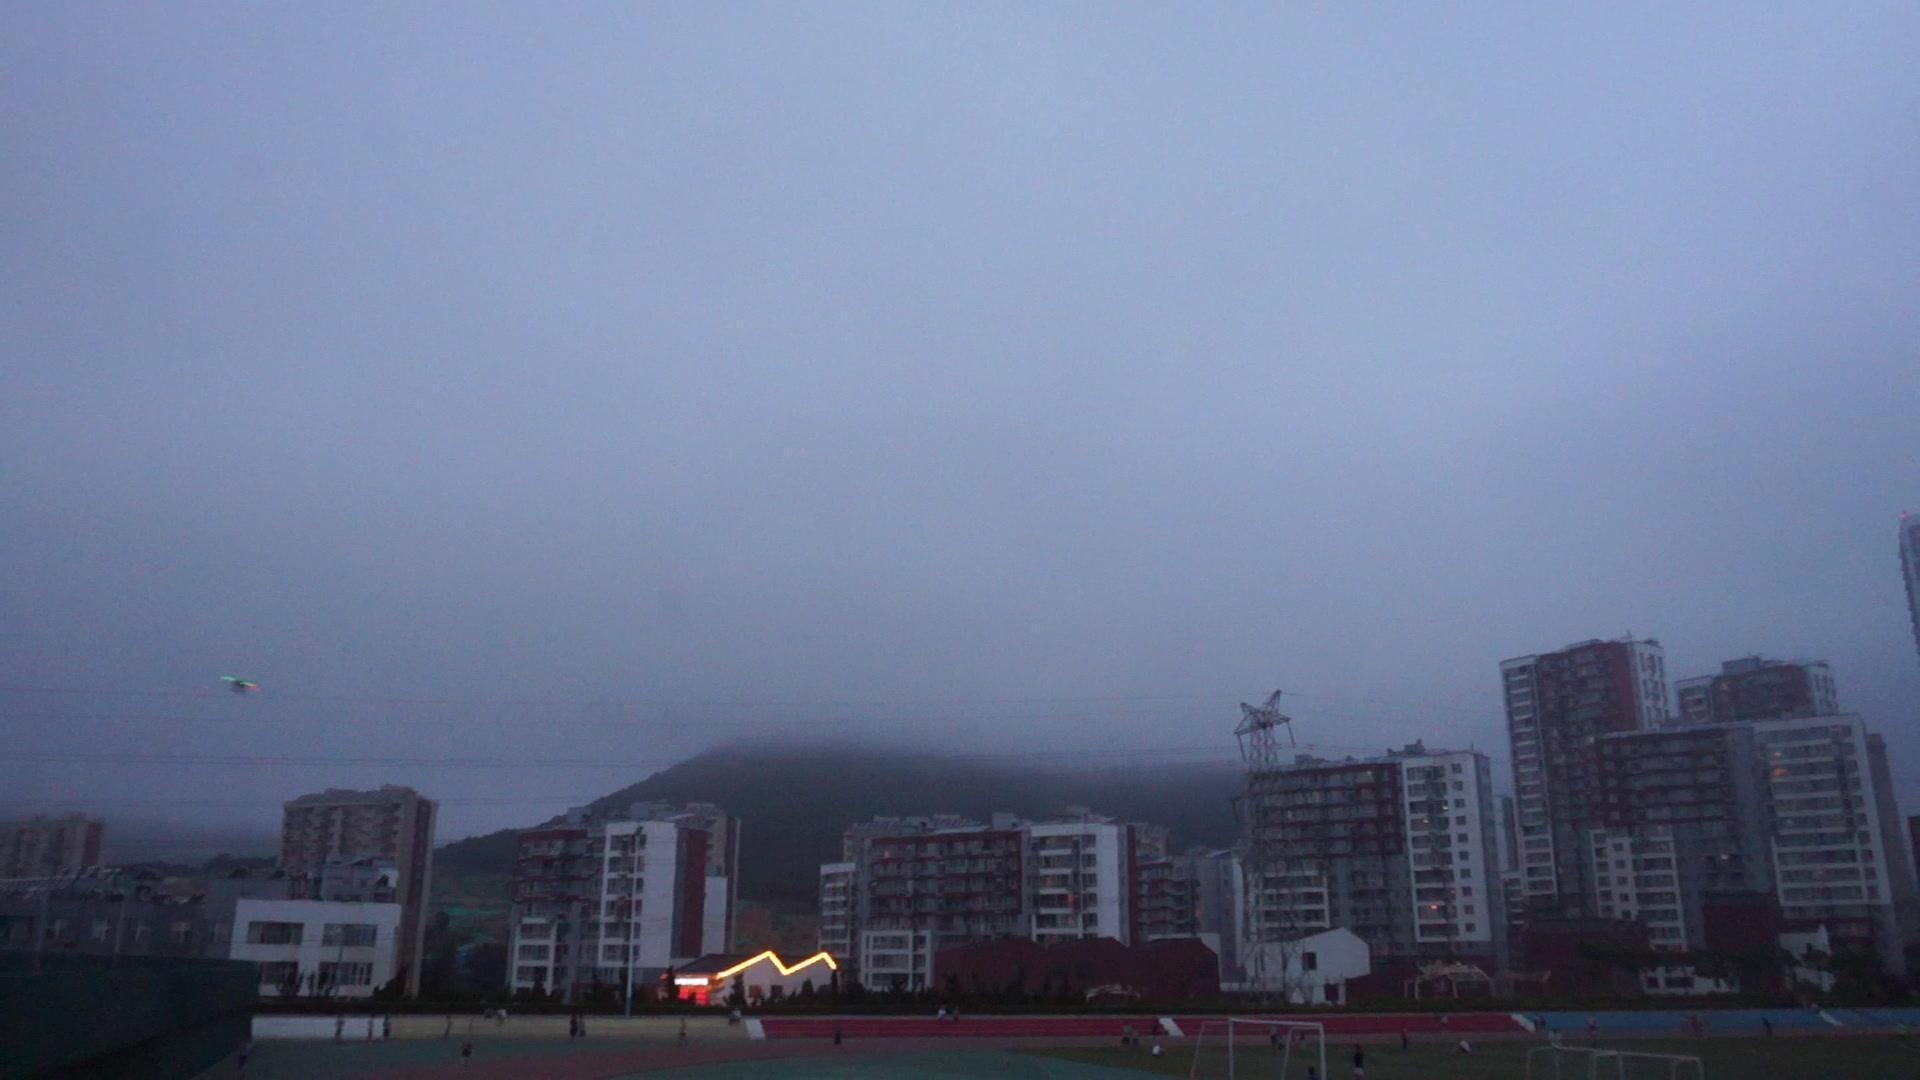UAV: (222, 676, 262, 694)
